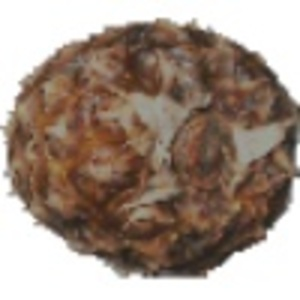abacaxi: (5, 16, 295, 269)
